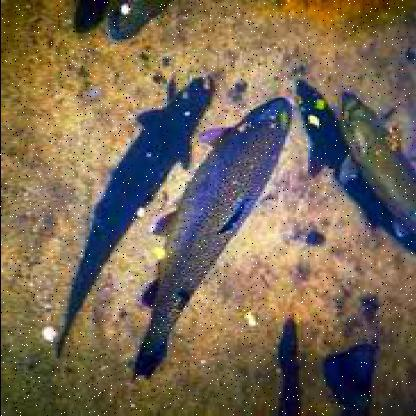fish: (126, 96, 296, 380)
